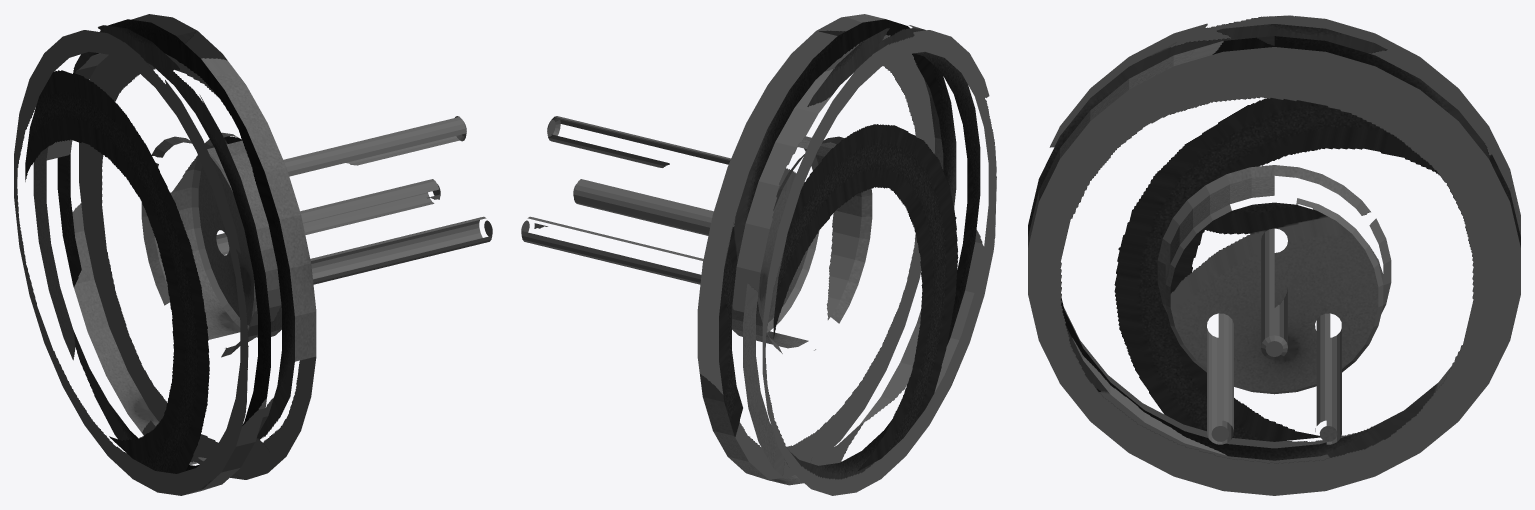
File: wheel_rotor_without_texture.dae
The picture shows the model from 3 angles, left to right: view 1: azimuth 30°, elevation 25°; view 2: azimuth 150°, elevation 25°; view 3: azimuth 270°, elevation 25°; orthographic projection. The views are drawn at different scales.
Parts seen in each view (by area): view 1: Cylinder_001; view 2: Cylinder_001; view 3: Cylinder_001.
Part boxes in pixels (x1,y1,x2,y2): Cylinder_001: (14, 14, 492, 495); Cylinder_001: (521, 14, 996, 495); Cylinder_001: (1028, 15, 1520, 495).
Bounding box in the file's own units: 0.3715 × 0.463 × 0.4656.
1 material, 1 textured.
